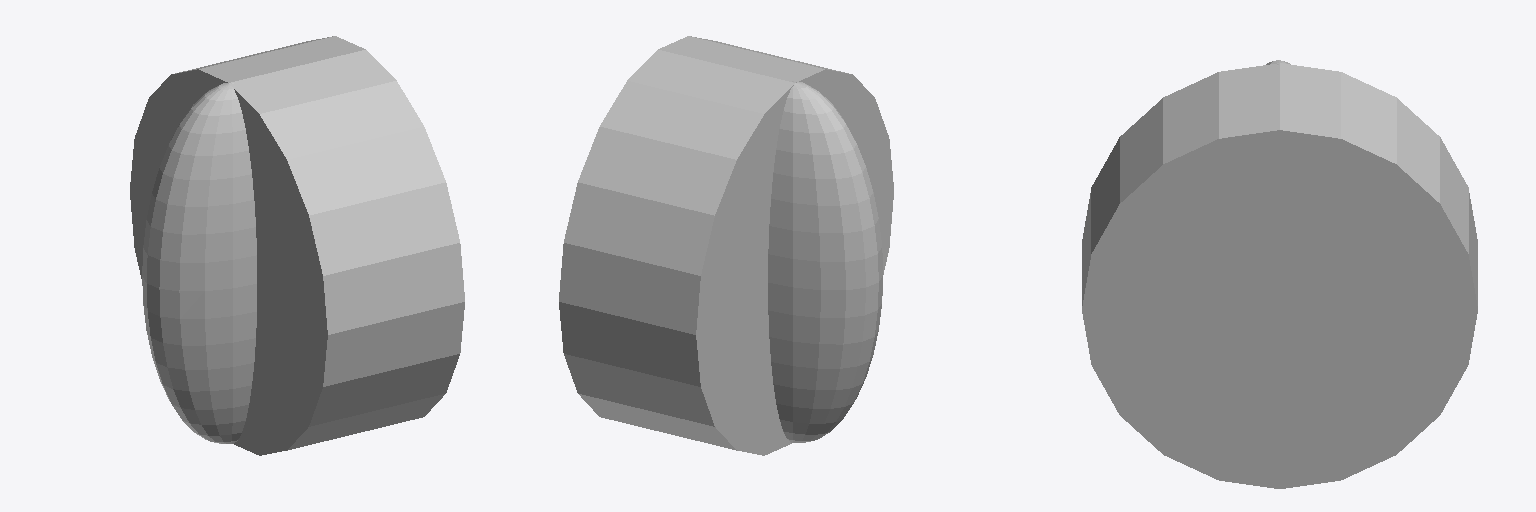
The model's file is perilla2.obj.
3 renders of one model, left to right at view 1: azimuth 30°, elevation 25°; view 2: azimuth 150°, elevation 25°; view 3: azimuth 270°, elevation 25°, orthographic.
Visible parts, largest first — view 1: cuarto:cuarto:polySurface11599; view 2: cuarto:cuarto:polySurface11599; view 3: cuarto:cuarto:polySurface11599.
Boxes of the visible parts, x1=… form: cuarto:cuarto:polySurface11599: x1=130, y1=36, x2=464, y2=455; cuarto:cuarto:polySurface11599: x1=559, y1=36, x2=893, y2=455; cuarto:cuarto:polySurface11599: x1=1082, y1=60, x2=1477, y2=488.
Bounding box in the file's own units: 0.0961 × 0.1498 × 0.1498.